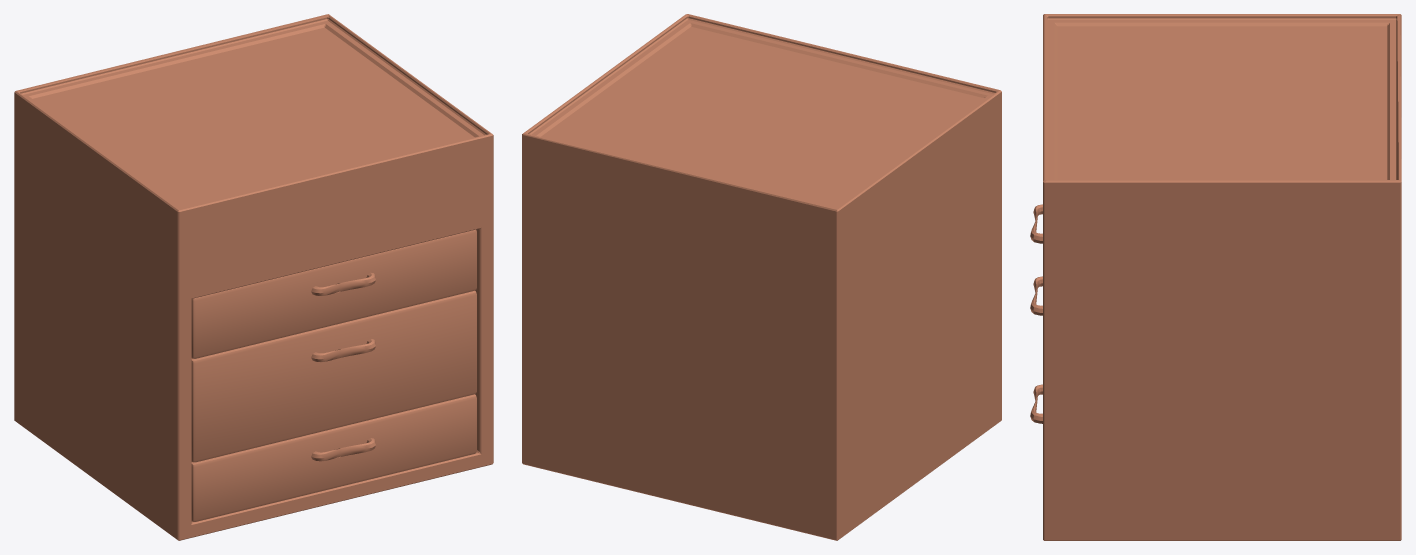
The model's file is Bottom Cabinet Body Frame.fbx.
The picture shows the model from 3 angles, left to right: view 1: azimuth 30°, elevation 25°; view 2: azimuth 150°, elevation 25°; view 3: azimuth 270°, elevation 25°; orthographic projection. The views are drawn at different scales.
Parts seen in each view (by area): view 1: Bottom Cabinet Body Frame, Mid Drawer 1, Drawer Top 1, Base Drawer 1; view 2: Bottom Cabinet Body Frame; view 3: Bottom Cabinet Body Frame.
Part boxes in pixels (x1,y1,x2,y2): Bottom Cabinet Body Frame: (14,14,493,540); Mid Drawer 1: (191,290,476,462); Drawer Top 1: (191,229,476,358); Base Drawer 1: (191,394,476,521); Bottom Cabinet Body Frame: (522,14,1001,540); Bottom Cabinet Body Frame: (1043,14,1401,540).
Size of the model in its own units: 89.76 by 96.05 by 96.05.
